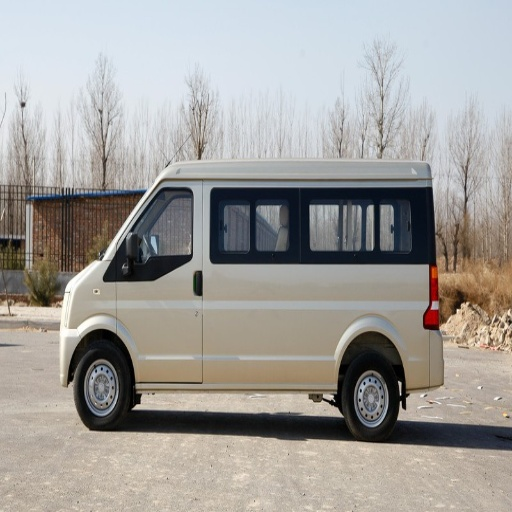back_left_door: (245, 197, 313, 378)
trunk: (315, 269, 435, 387)
